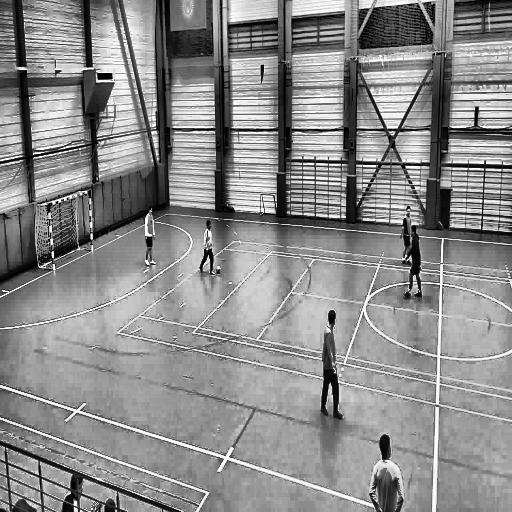ball: (215, 264, 222, 276)
player: (320, 310, 345, 422), (369, 433, 403, 512), (404, 226, 424, 302), (143, 203, 158, 270), (199, 217, 215, 278), (399, 203, 413, 265)
